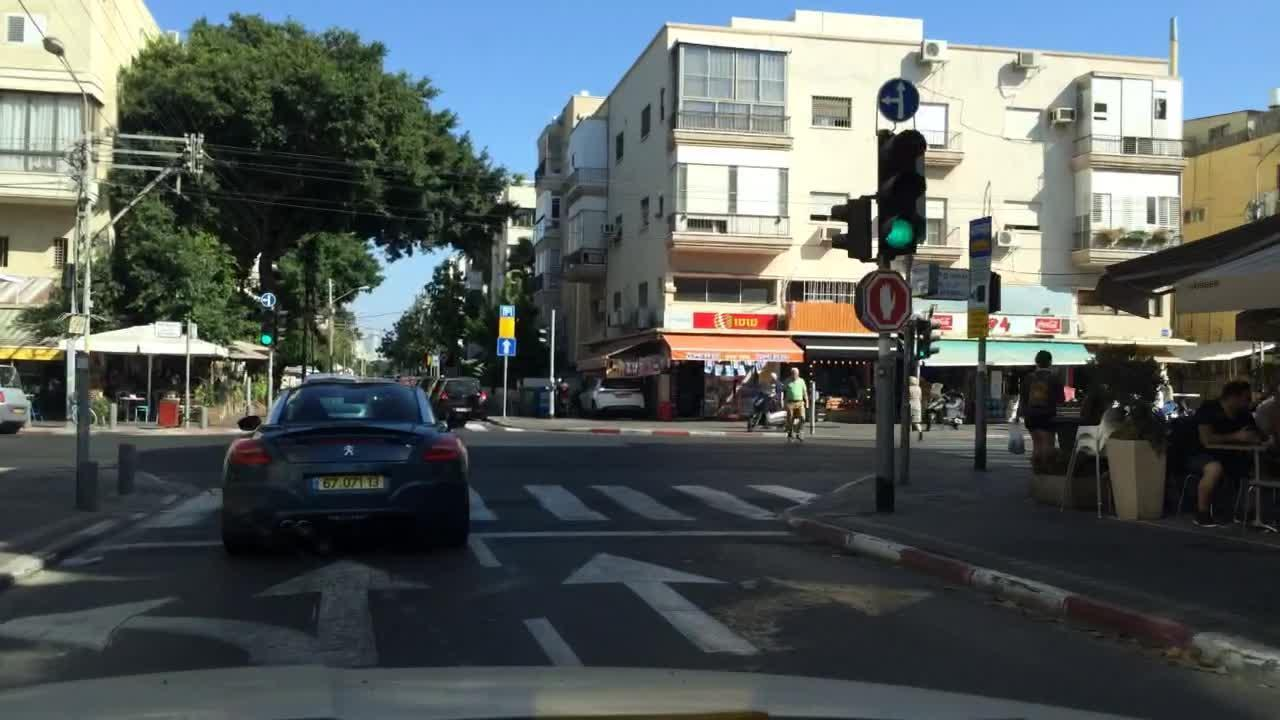no class: (341, 441, 355, 462)
